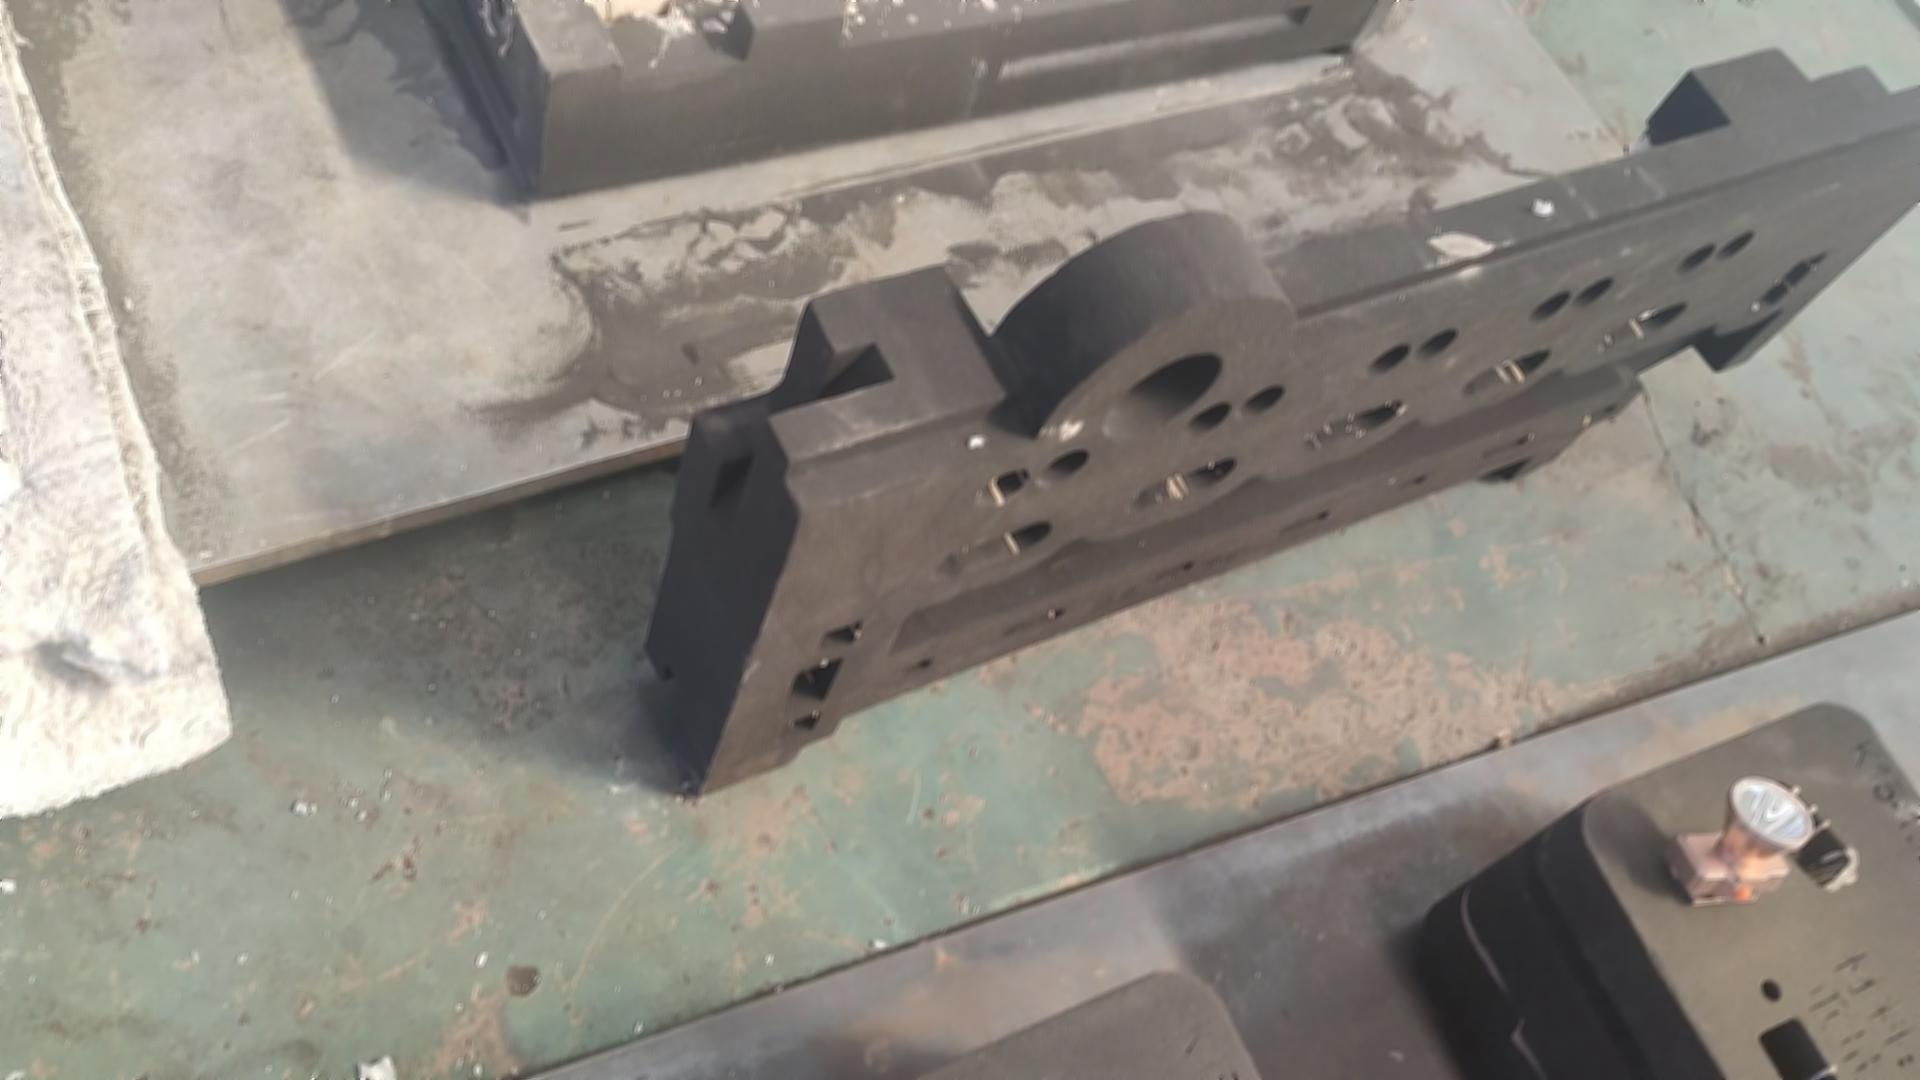pouring hole: (1102, 353, 1222, 436)
